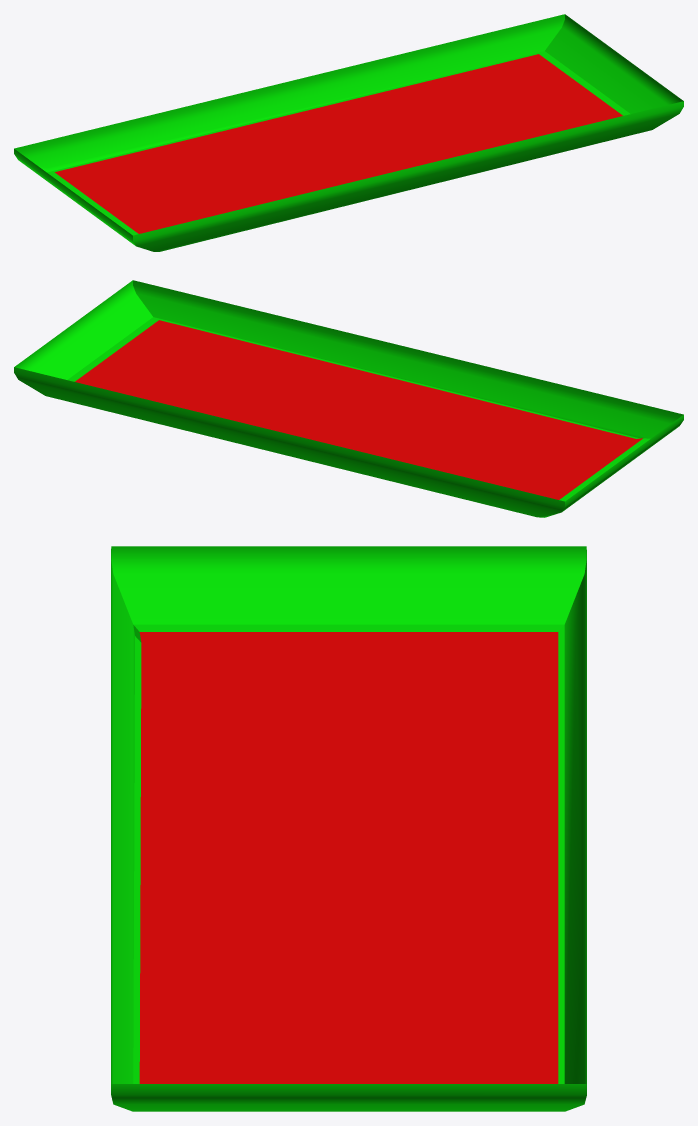
Rendered from SetoFloor3Light.fbx.
The picture shows the model from 3 angles, top to bottom: view 1: azimuth 30°, elevation 25°; view 2: azimuth 150°, elevation 25°; view 3: azimuth 270°, elevation 25°; orthographic projection. The views are drawn at different scales.
Visible parts, largest first — view 1: Floor3Light; view 2: Floor3Light; view 3: Floor3Light.
Boxes of the visible parts, bbox=[...] form: Floor3Light: bbox=[14, 14, 683, 251]; Floor3Light: bbox=[14, 280, 683, 517]; Floor3Light: bbox=[111, 546, 586, 1111].
Bounding box in the file's own units: 198 × 9.84 × 73.93.
